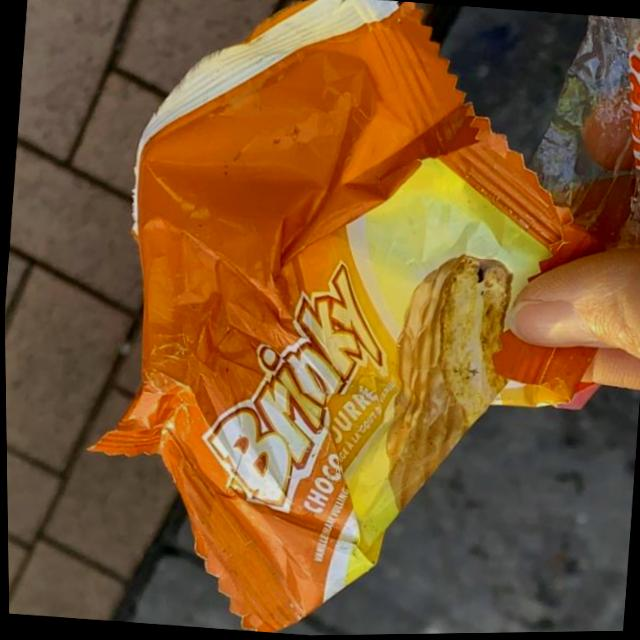Plastic: (59, 0, 640, 639)
